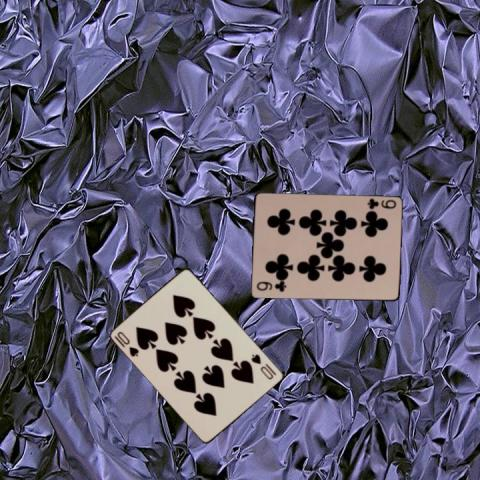10s: (248, 352, 275, 382), (114, 328, 140, 358)
9c: (364, 196, 397, 211), (254, 280, 288, 293)
